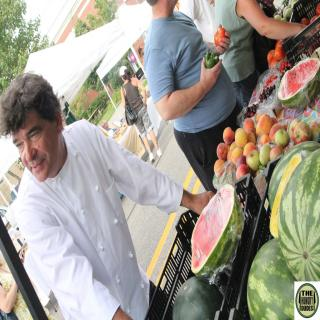Watermelon: (276, 148, 320, 282), (191, 184, 243, 283), (244, 237, 298, 320), (268, 142, 320, 210), (268, 152, 302, 239), (276, 56, 320, 112), (172, 276, 224, 320)
